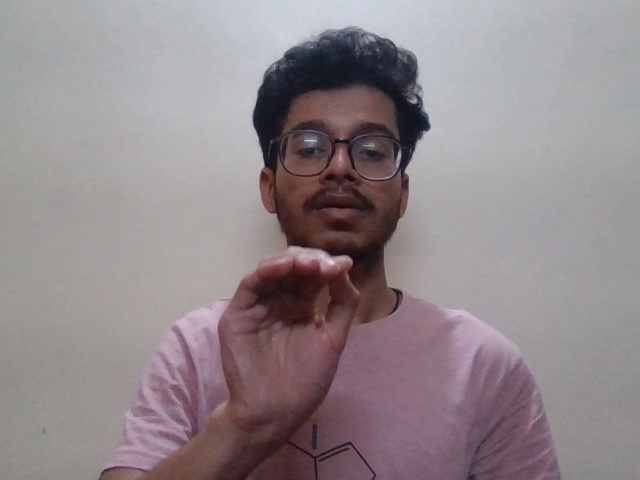sound: (217, 239, 374, 440)
